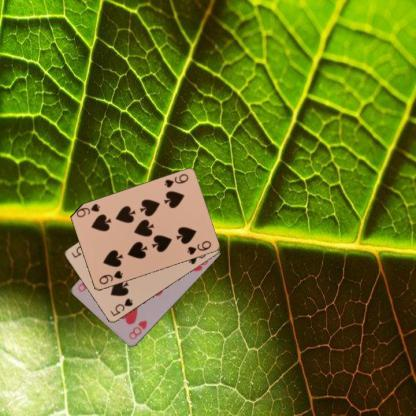5s: (108, 296, 134, 318)
8h: (126, 318, 148, 341)
9s: (97, 268, 124, 286), (162, 172, 189, 189)
